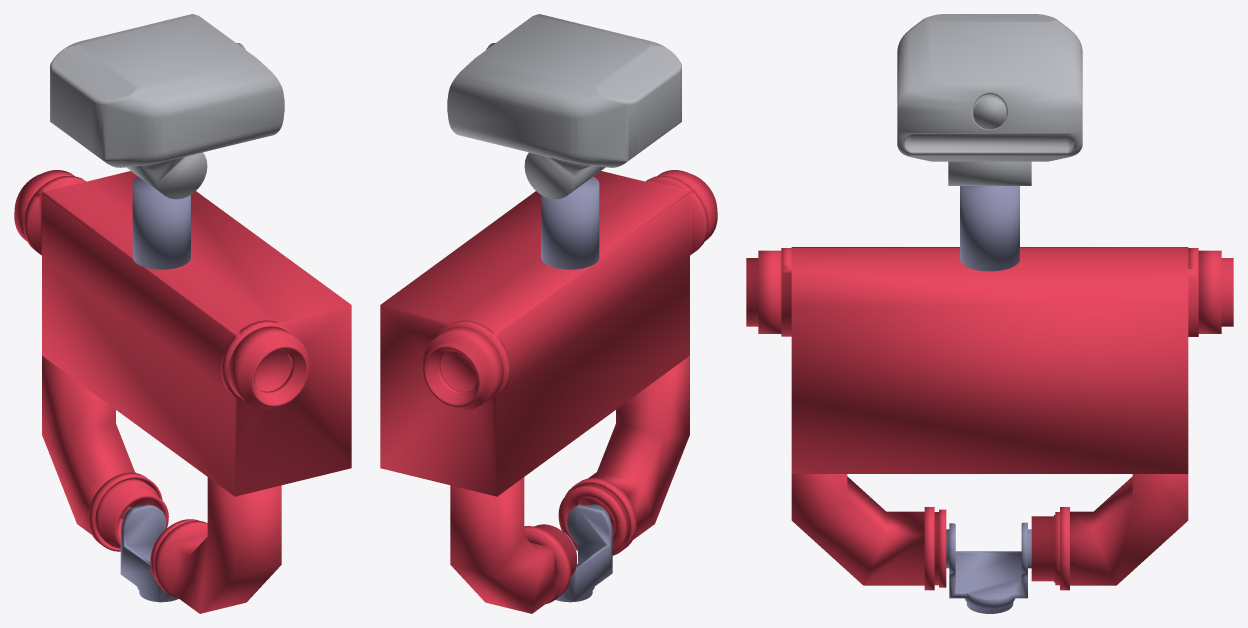
The model's file is teo_head.glb.
3 renders of one model, left to right at view 1: azimuth 30°, elevation 25°; view 2: azimuth 150°, elevation 25°; view 3: azimuth 270°, elevation 25°, orthographic. The views are drawn at different scales.
Parts seen in each view (by area): view 1: node.016, FrontalNeck, AxialNeck, node.015; view 2: node.016, FrontalNeck, AxialNeck, node.015; view 3: node.016, FrontalNeck, node.015, AxialNeck.
Part boxes in pixels (x1,y1,x2,y2): node.016: (14,170,351,613); FrontalNeck: (50,14,284,199); AxialNeck: (132,176,190,269); node.015: (120,504,178,602); node.016: (380,170,717,613); FrontalNeck: (447,14,681,199); AxialNeck: (541,176,599,269); node.015: (555,504,612,602); node.016: (746,247,1233,590); FrontalNeck: (897,14,1082,185); node.015: (946,522,1031,613); AxialNeck: (960,186,1019,271).
Bounding box in the file's own units: 0.2343 × 0.661 × 0.5258.
